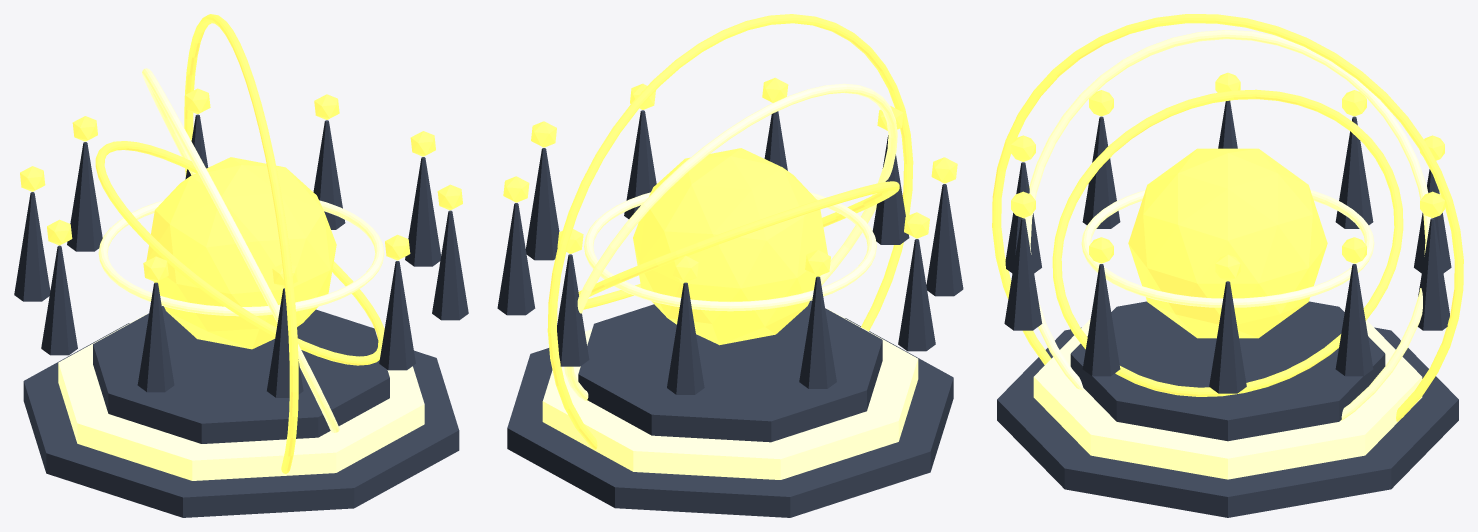
The model's file is gpu-blender-v22.glb.
3 renders of one model, left to right at view 1: azimuth 30°, elevation 25°; view 2: azimuth 150°, elevation 25°; view 3: azimuth 270°, elevation 25°, orthographic. The views are drawn at different scales.
Visible parts, largest first — view 1: Cylinder.002, SovereignCore_zoth-bounty, Cylinder, Cylinder.001, Torus.003, Torus.001, Torus, Torus.002, Cone.006, Cone.009, Cone.005, Cone.008 (+12 smaller); view 2: Cylinder.002, SovereignCore_zoth-bounty, Cylinder, Cylinder.001, Torus.003, Torus.002, Torus, Torus.001, Cone.005, Cone.001, Cone.006, Cone.003 (+12 smaller); view 3: SovereignCore_zoth-bounty, Cylinder.002, Cylinder, Cylinder.001, Torus.003, Torus.001, Torus.002, Torus, Cone.001, Cone.009, Cone, Cone.008 (+7 smaller).
Part boxes in pixels (x1,y1,x2,y2): Cylinder.002: [93, 306, 389, 443]; SovereignCore_zoth-bounty: [146, 157, 336, 349]; Cylinder: [23, 323, 459, 517]; Cylinder.001: [58, 314, 424, 480]; Torus.003: [184, 14, 298, 473]; Torus.001: [95, 141, 384, 365]; Torus: [98, 200, 384, 316]; Torus.002: [142, 68, 339, 432]; Cone.006: [137, 282, 174, 392]; Cone.009: [432, 210, 468, 320]; Cone.005: [41, 245, 77, 355]; Cone.008: [379, 261, 415, 370]; Cylinder.002: [578, 300, 882, 442]; SovereignCore_zoth-bounty: [633, 148, 827, 345]; Cylinder: [507, 318, 953, 517]; Cylinder.001: [542, 308, 918, 479]; Torus.003: [547, 14, 913, 449]; Torus.002: [564, 83, 897, 400]; Torus: [584, 192, 876, 311]; Torus.001: [578, 181, 899, 309]; Cone.005: [898, 239, 935, 351]; Cone.001: [497, 203, 535, 315]; Cone.006: [926, 184, 963, 296]; Cone.003: [667, 282, 704, 394]; SovereignCore_zoth-bounty: [1128, 148, 1327, 338]; Cylinder.002: [1070, 301, 1385, 441]; Cylinder: [997, 327, 1458, 517]; Cylinder.001: [1033, 319, 1422, 479]; Torus.003: [992, 14, 1463, 421]; Torus.001: [1052, 89, 1403, 396]; Torus.002: [1024, 30, 1431, 420]; Torus: [1081, 190, 1374, 307]; Cone.001: [1335, 264, 1373, 376]; Cone.009: [1082, 264, 1120, 376]; Cone: [1209, 281, 1246, 393]; Cone.008: [1004, 218, 1042, 330].
Size of the model in its own units: 4.41 by 4.7 by 4.49.
